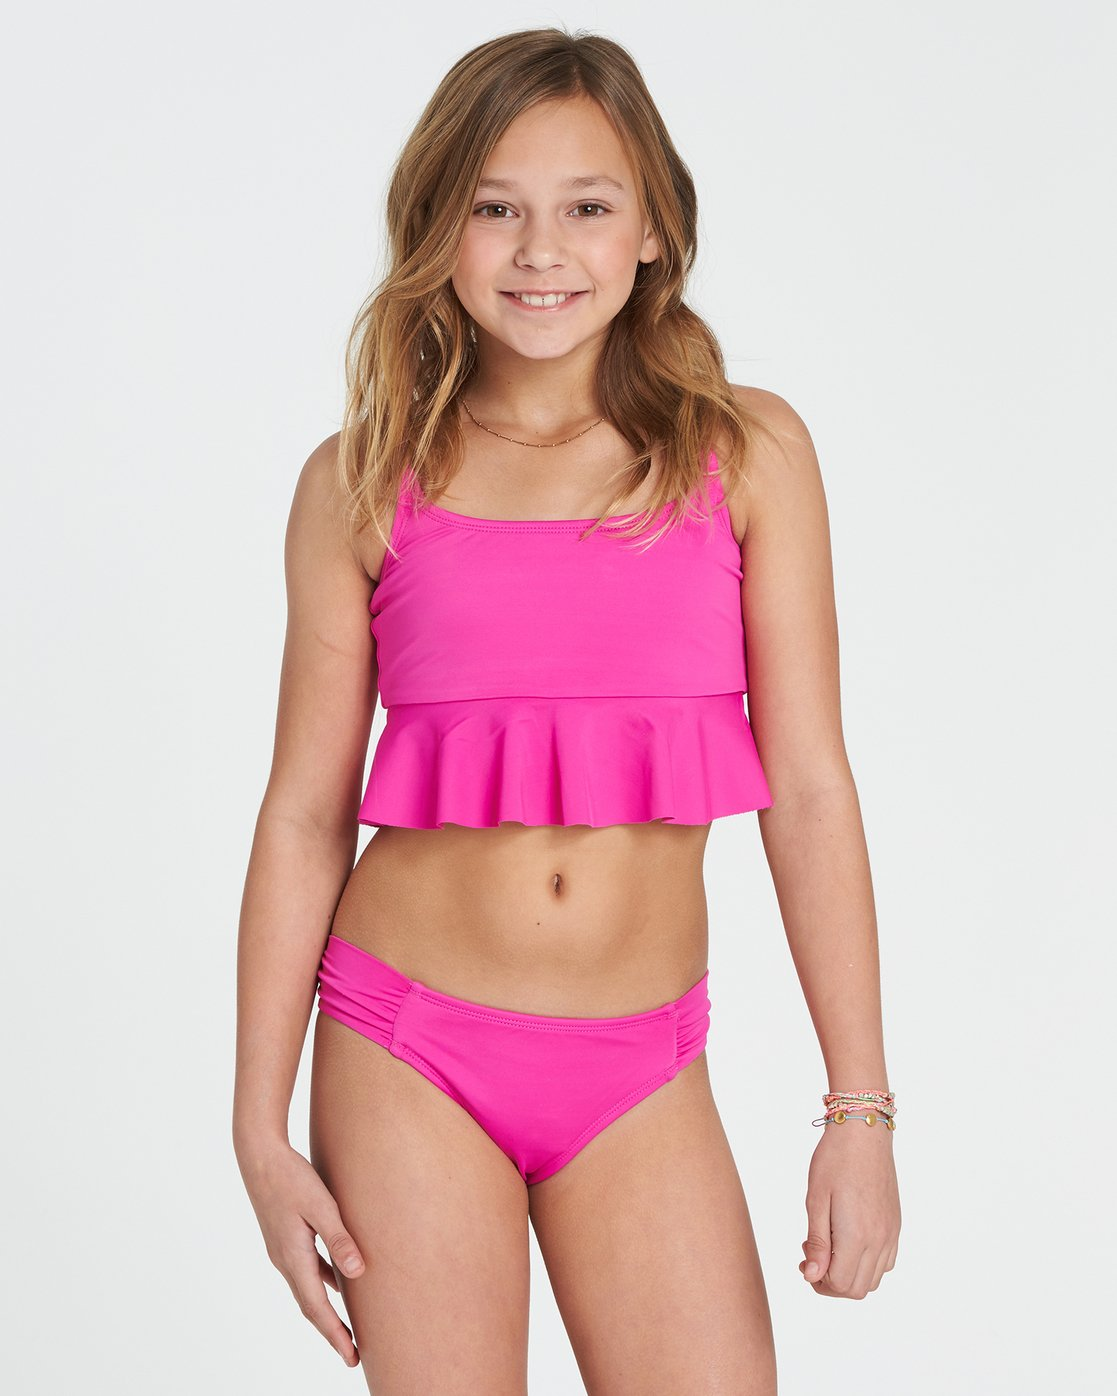GIRL: (408, 67, 689, 355)
